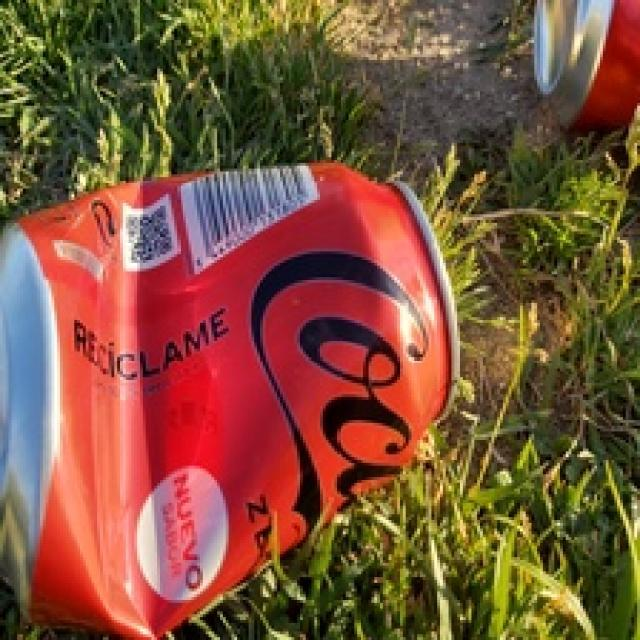recyclable: (0, 162, 460, 640), (529, 0, 640, 133)
